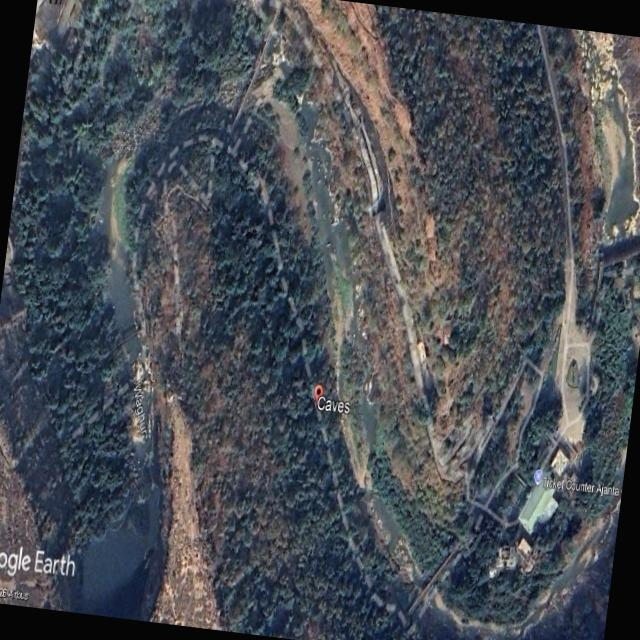objects-ruins-artifacts: (55, 29, 270, 479), (308, 288, 598, 588)
